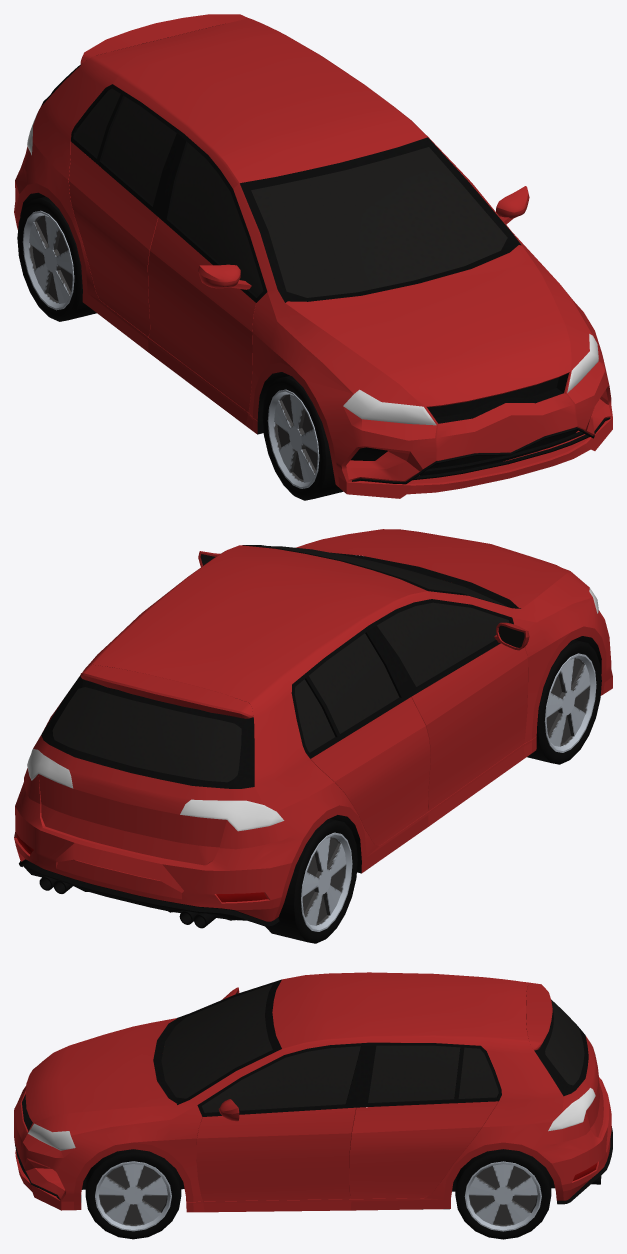
Rendered from Golv.fbx.
3 views of the same model, one above another, from view 1: azimuth 30°, elevation 25°; view 2: azimuth 150°, elevation 25°; view 3: azimuth 270°, elevation 25° (orthographic). The views are drawn at different scales.
Visible parts, largest first — view 1: polySurface6z, pCylinder3z, pCylinder4z; view 2: polySurface6z, pCylinder4z, pCylinder3z; view 3: polySurface6z, pCylinder1z, pCylinder2z.
Boxes of the visible parts, <box> form: polySurface6z: <box>14,14,612,498</box>; pCylinder3z: <box>262,375,343,500</box>; pCylinder4z: <box>17,196,96,321</box>; polySurface6z: <box>14,529,612,928</box>; pCylinder4z: <box>265,818,357,943</box>; pCylinder3z: <box>527,639,601,764</box>; polySurface6z: <box>14,972,612,1212</box>; pCylinder1z: <box>455,1149,551,1239</box>; pCylinder2z: <box>85,1149,181,1239</box>.
Bounding box in the file's own units: 17.87 × 12.88 × 37.27.
